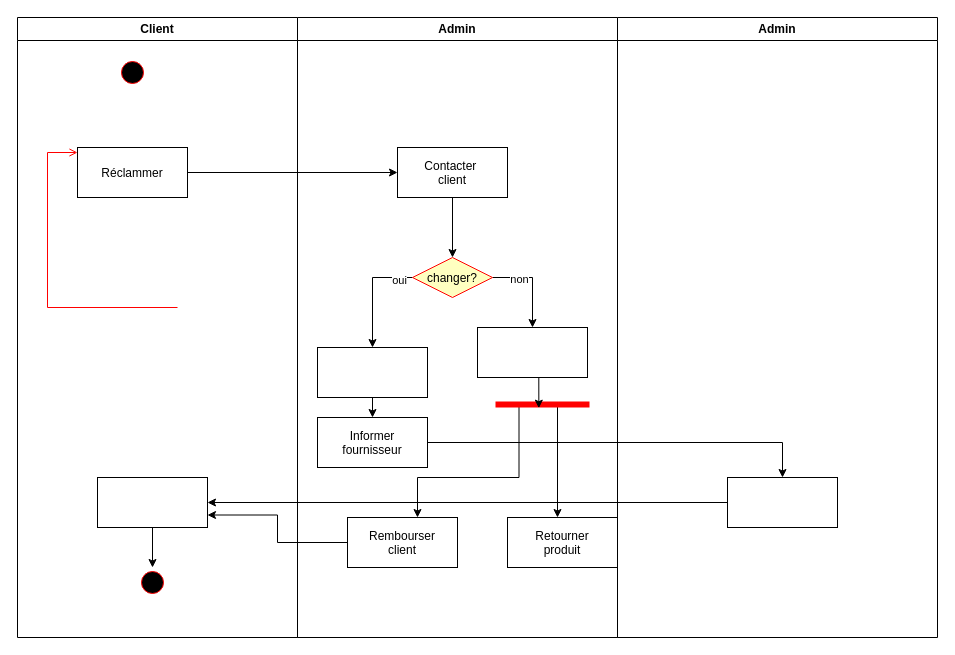
The diagram is 955 pixels wide and 655 high, and some of its shapes have lost their labels. Each missing label, with the centre of its shape:
accusé réception: [152,502]
Changer: [372,372]
Envoyer un nouveau produit: [782,502]
Retourner: [532,352]
